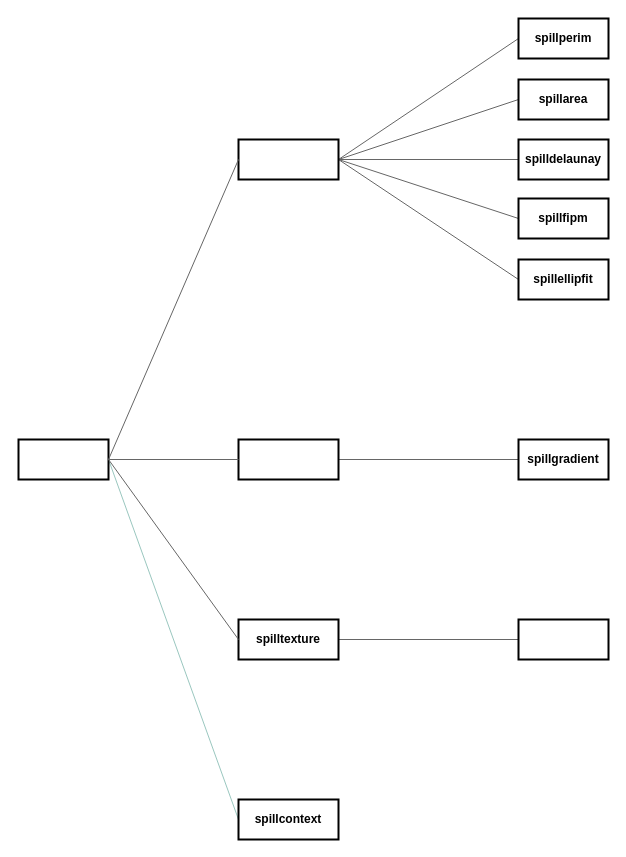
Image size: 626x857. Some labels were removed from this diagram. Each missing label, with the centre of its shape:
glcmfeatures: (x=563, y=639)
spillbackscatter: (x=288, y=459)
spillfeatures: (x=63, y=459)
spillgeom: (x=288, y=159)
